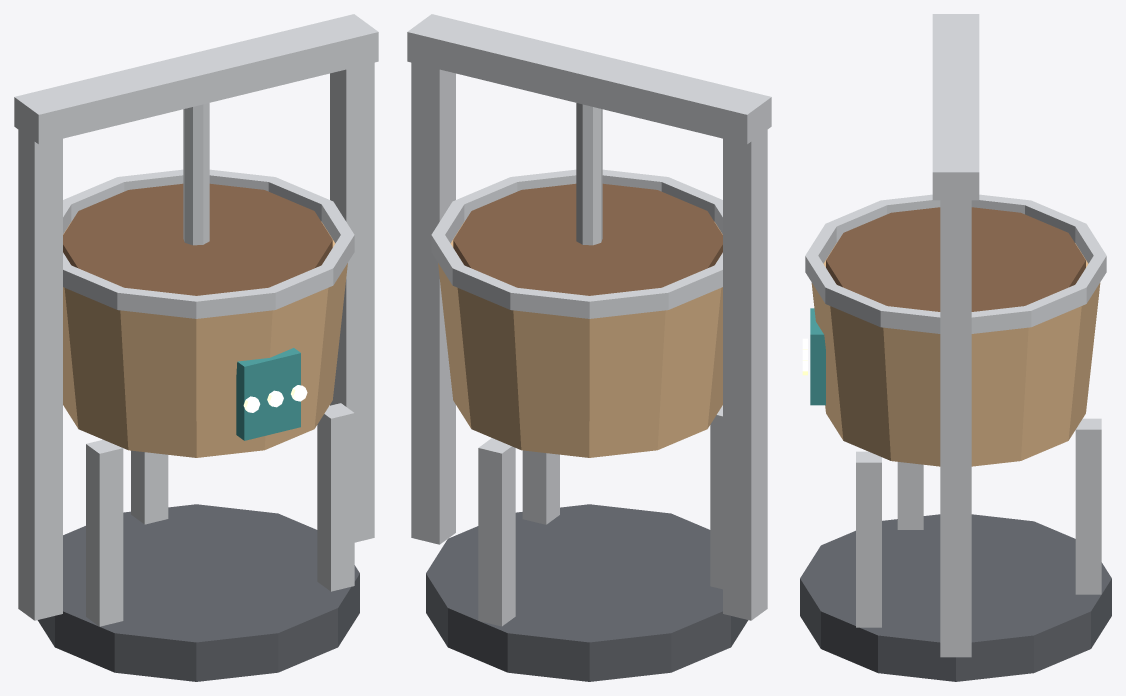
File: chocolate-and-confectionery-factory-caramel-kettle-84a80e67__36775.glb
The picture shows the model from 3 angles, left to right: view 1: azimuth 30°, elevation 25°; view 2: azimuth 150°, elevation 25°; view 3: azimuth 270°, elevation 25°; orthographic projection. The views are drawn at different scales.
Parts seen in each view (by area): view 1: caramel-kettle, paddle-kettle/steel; view 2: caramel-kettle, paddle-kettle/steel; view 3: caramel-kettle.
Part boxes in pixels (left/top/right/bottom): caramel-kettle: left=14, top=14, right=378, bottom=681; paddle-kettle/steel: left=183, top=103, right=209, bottom=245; caramel-kettle: left=407, top=14, right=771, bottom=681; paddle-kettle/steel: left=576, top=103, right=602, bottom=245; caramel-kettle: left=800, top=14, right=1111, bottom=681.
Bounding box in the file's own units: 1.44 × 2.22 × 1.2.
